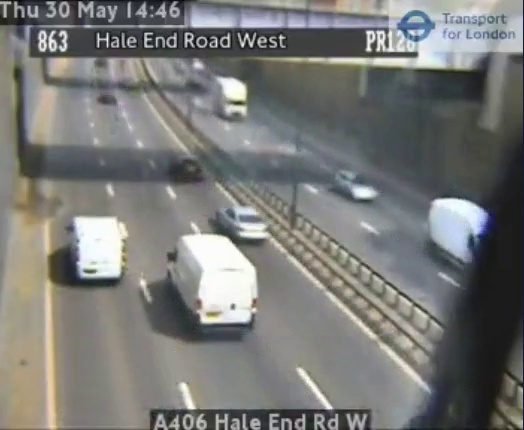car: (216, 207, 268, 239)
van: (169, 235, 258, 333), (70, 216, 126, 280)
